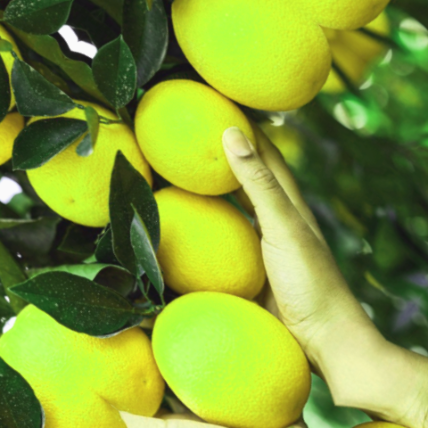orange: (113, 249, 341, 428), (123, 0, 353, 157), (94, 41, 287, 226)
